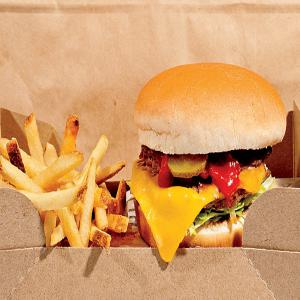cheeseburger: (131, 57, 294, 262)
fries: (7, 106, 128, 262)
